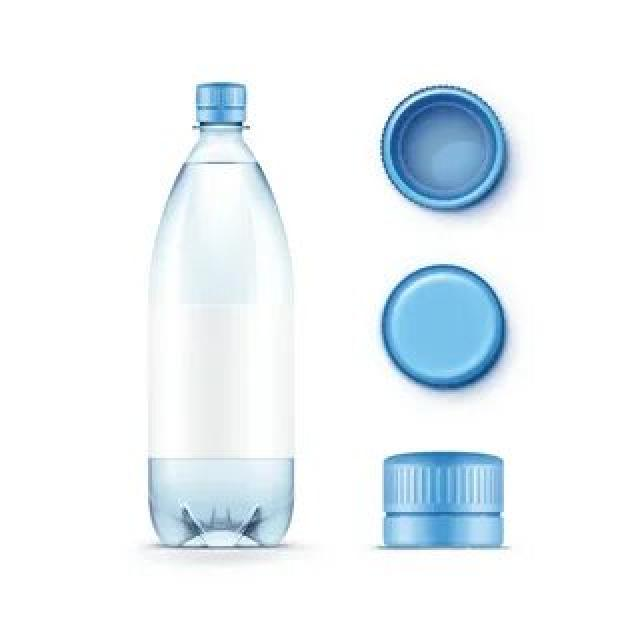blue: (147, 122, 295, 548)
